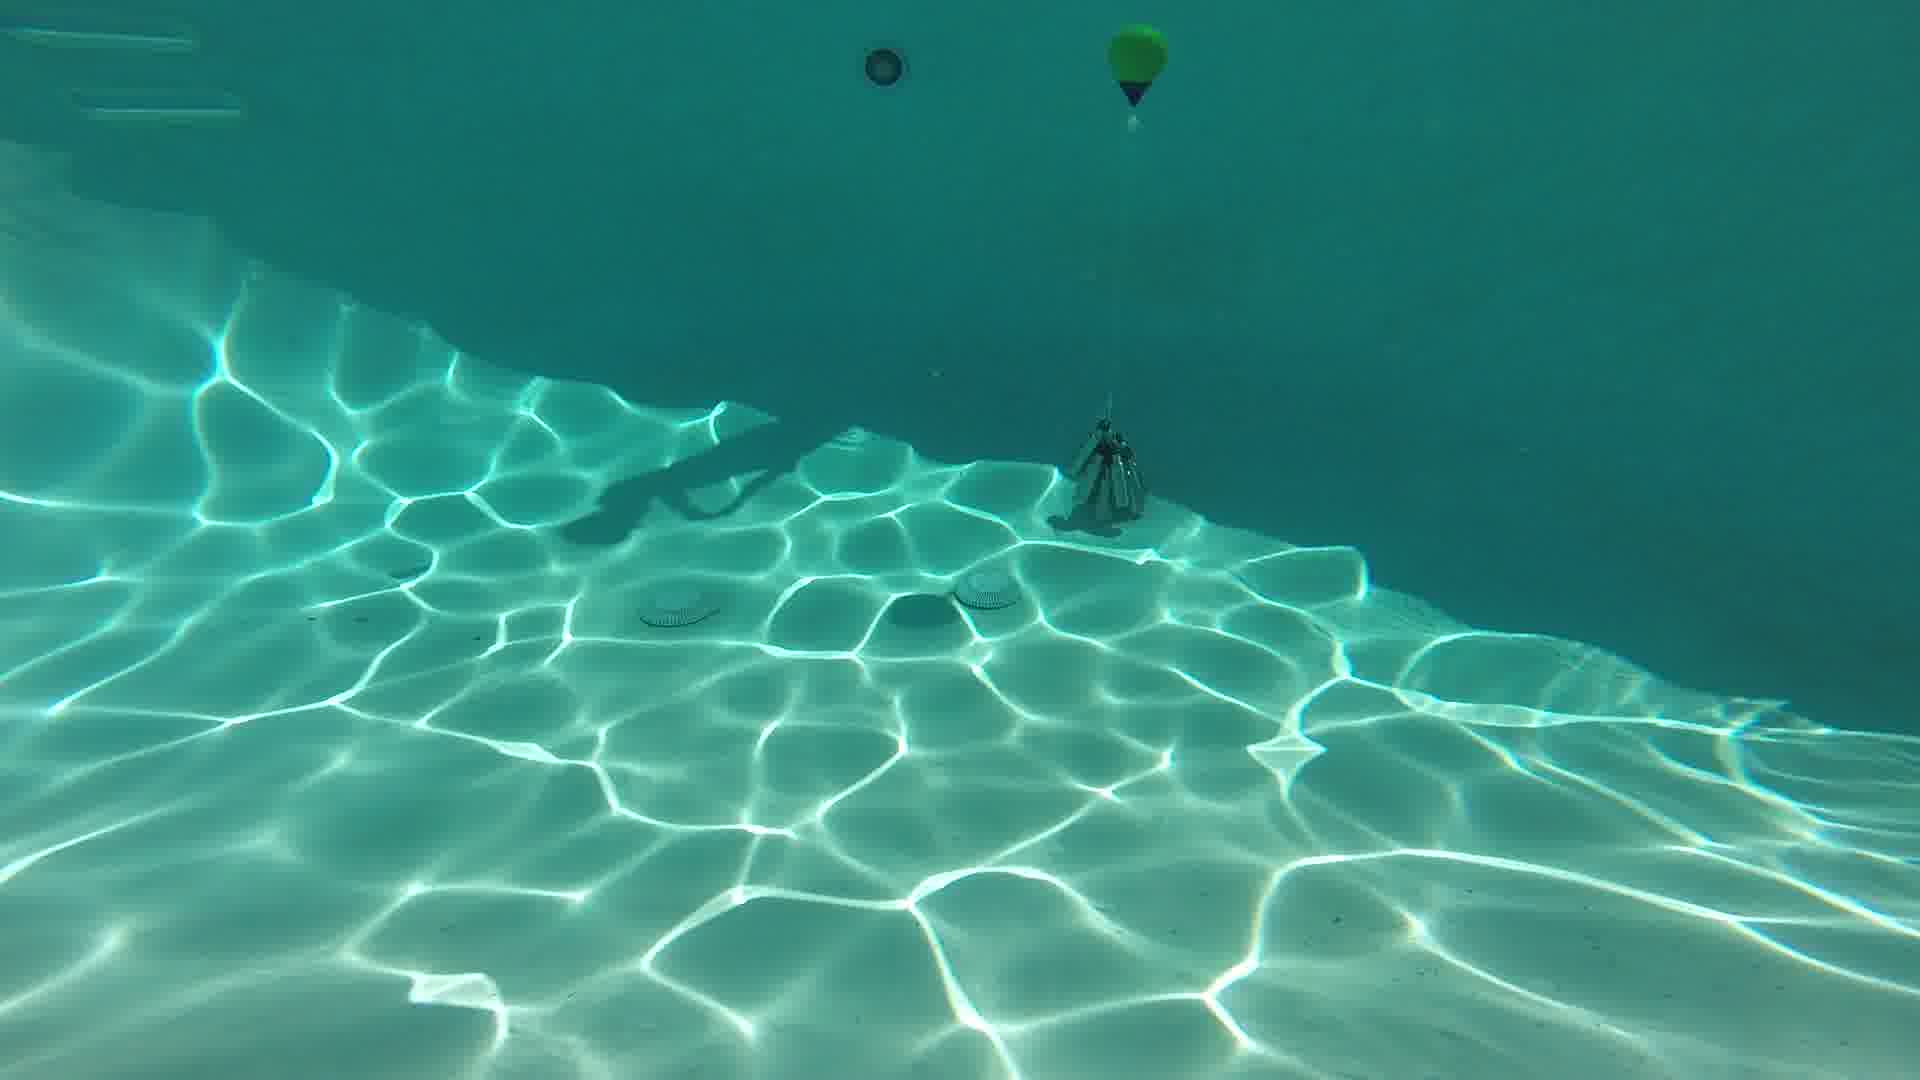yellow_buoy: (1112, 22, 1166, 107)
